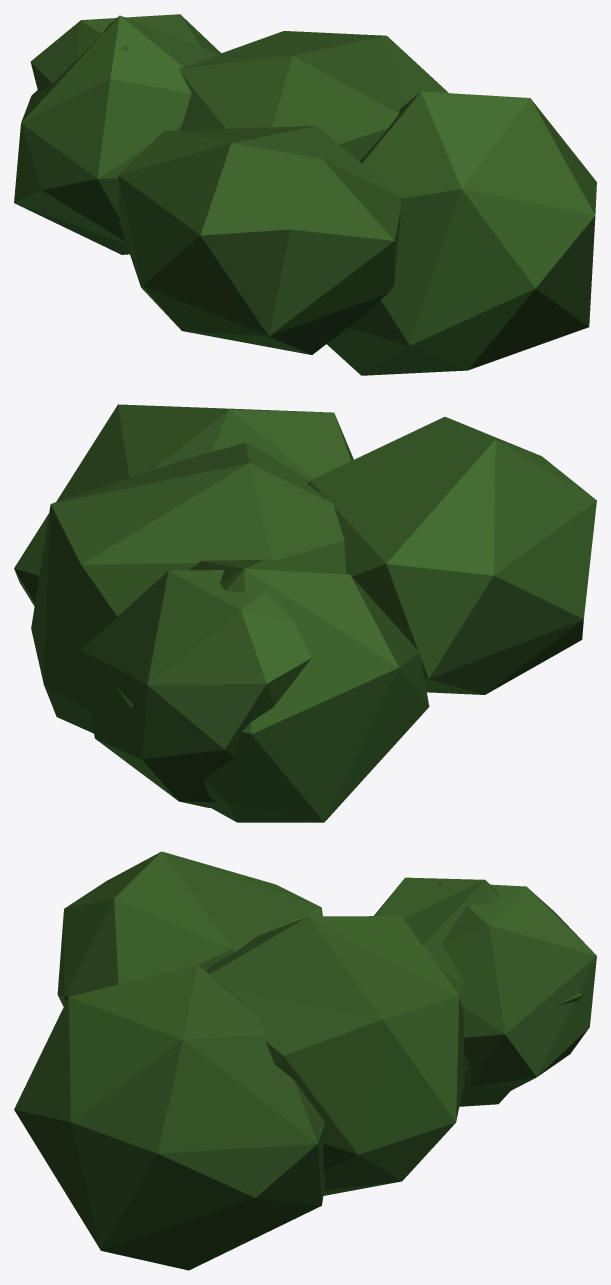
The model's file is bush_1.glb.
3 views of the same model, one above another, from view 1: azimuth 30°, elevation 25°; view 2: azimuth 150°, elevation 25°; view 3: azimuth 270°, elevation 25° (orthographic). The views are drawn at different scales.
Parts seen in each view (by area): view 1: b; view 2: b; view 3: b.
Part boxes in pixels (<box>): b: <box>14,14,596,375</box>; b: <box>14,404,596,822</box>; b: <box>14,851,596,1270</box>.
Size of the model in its own units: 1.93 by 1.19 by 2.2.
